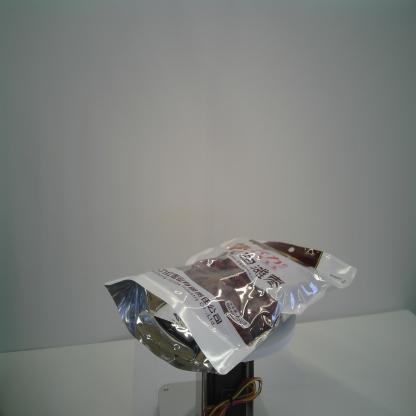Dried Food: (103, 232, 360, 378)
